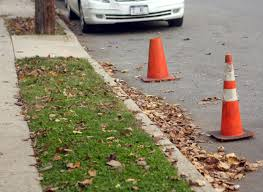car: (63, 1, 185, 30)
cone: (208, 53, 254, 143), (143, 36, 177, 84)
